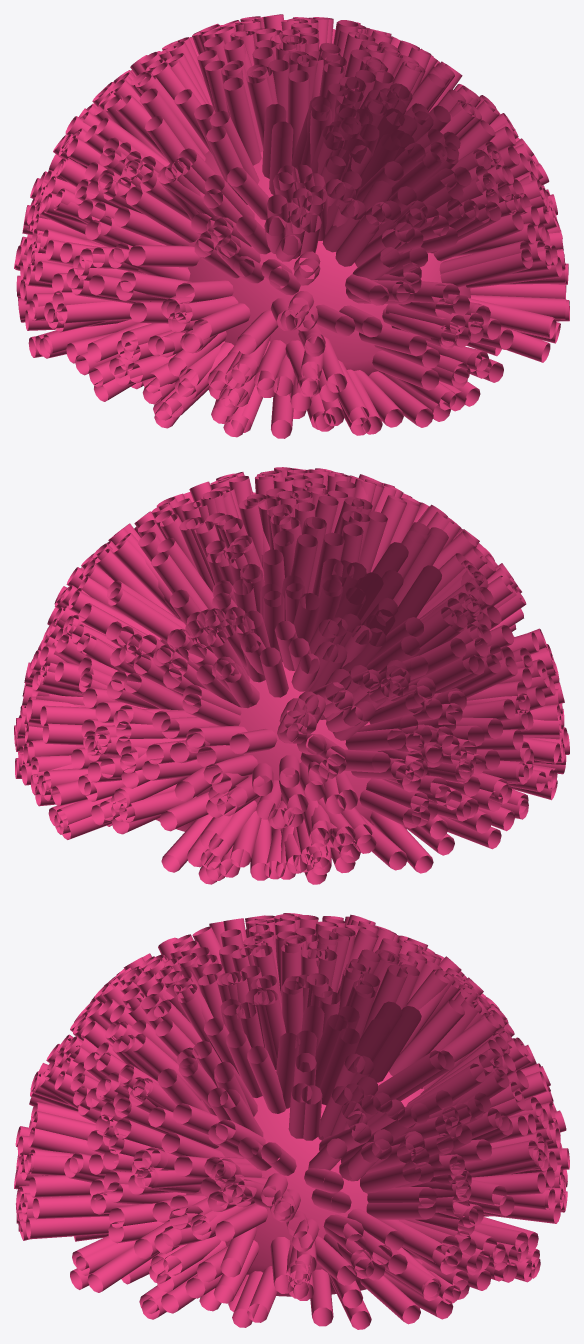
The model's file is Coral_1.fbx.
The picture shows the model from 3 angles, top to bottom: view 1: azimuth 30°, elevation 25°; view 2: azimuth 150°, elevation 25°; view 3: azimuth 270°, elevation 25°; orthographic projection.
Visible parts, largest first — view 1: Mesh; view 2: Mesh; view 3: Mesh.
Part boxes in pixels (x1,y1,x2,y2): Mesh: (14, 14, 569, 438); Mesh: (14, 467, 569, 884); Mesh: (14, 913, 569, 1329).
Bounding box in the file's own units: 3.11 × 3.09 × 1.77.
